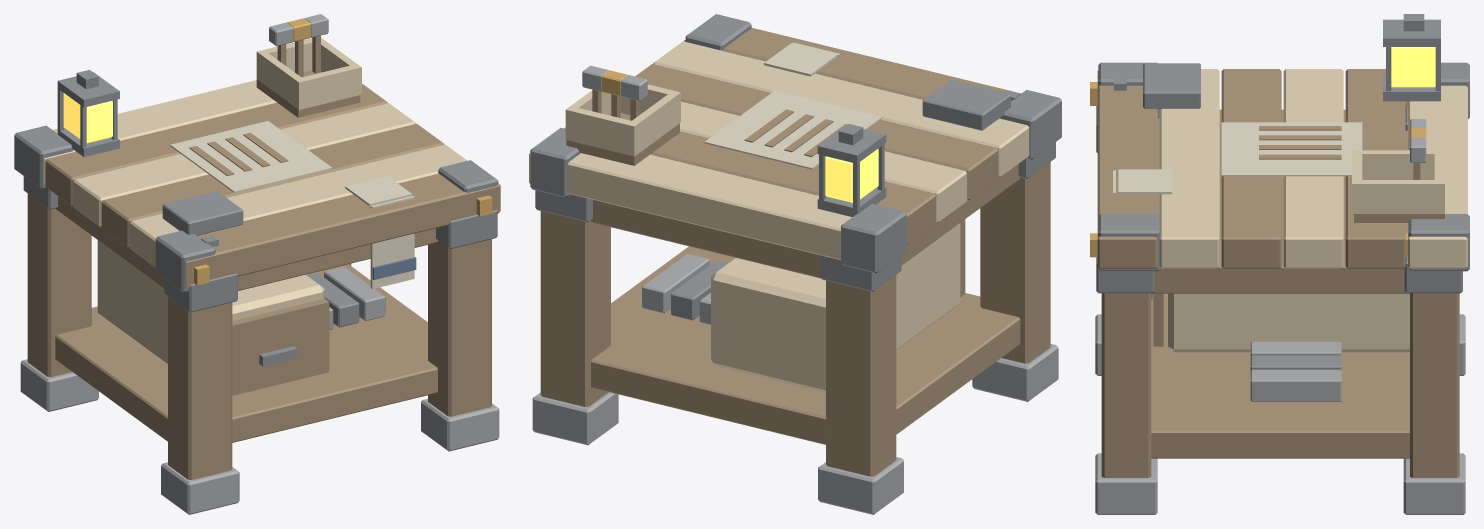
The model's file is workbench.gltf.
3 renders of one model, left to right at view 1: azimuth 30°, elevation 25°; view 2: azimuth 150°, elevation 25°; view 3: azimuth 270°, elevation 25°, orthographic. The views are drawn at different scales.
Bounding box in the file's own units: 0.976 × 0.948 × 0.918.
